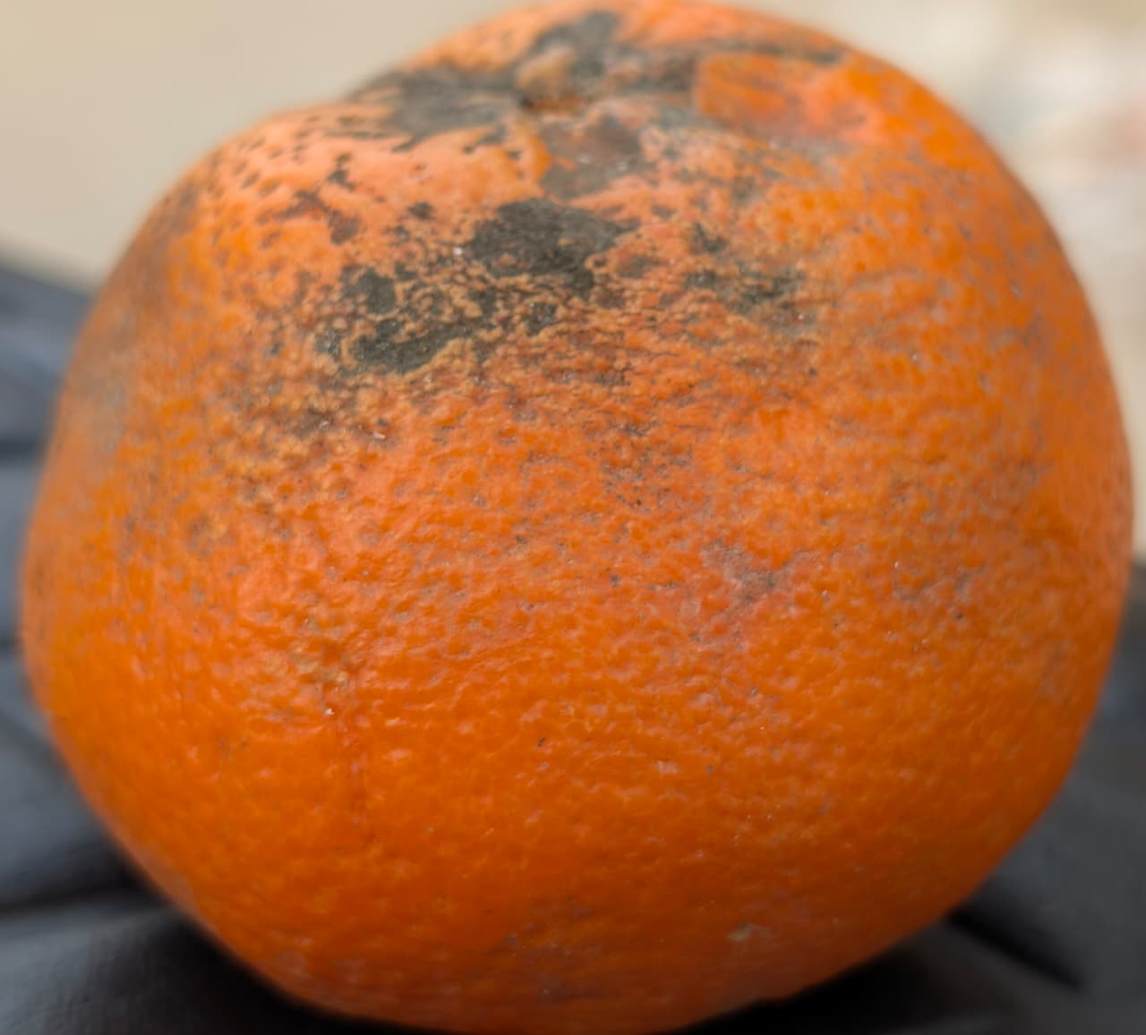orange: (153, 125, 1118, 1032)
